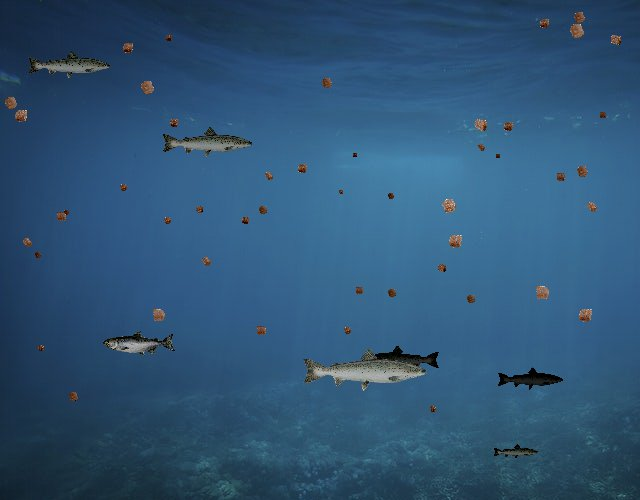Fish: (300, 346, 429, 392), (161, 126, 255, 160), (26, 49, 112, 80), (361, 345, 442, 374), (104, 331, 177, 357), (496, 367, 564, 391), (493, 444, 540, 461)
Pellet: (441, 228, 470, 257), (571, 301, 599, 329), (467, 112, 494, 139), (570, 160, 594, 184), (292, 159, 313, 180), (461, 290, 480, 309), (339, 322, 356, 339), (34, 341, 48, 355)
